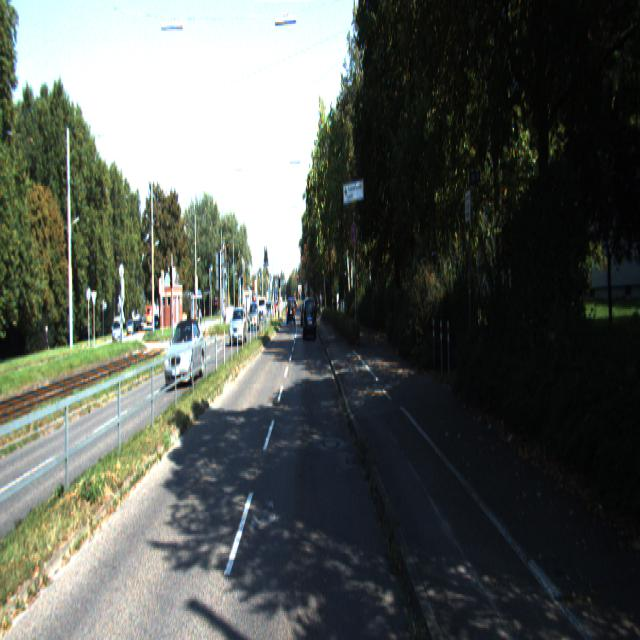Car: (164, 316, 206, 391), (304, 296, 318, 341)
